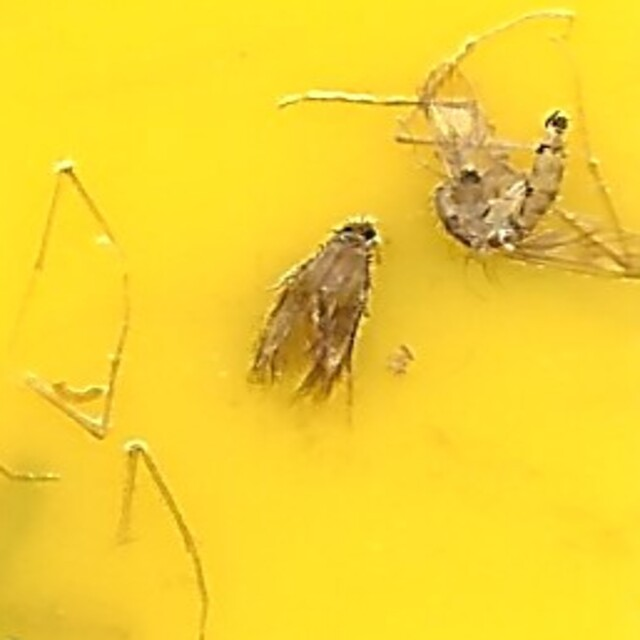Trichoptera: (249, 208, 391, 432)
